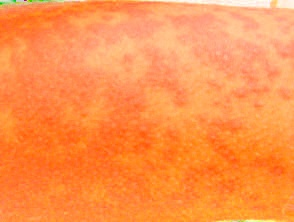SJS-TEN: (0, 1, 294, 219)
